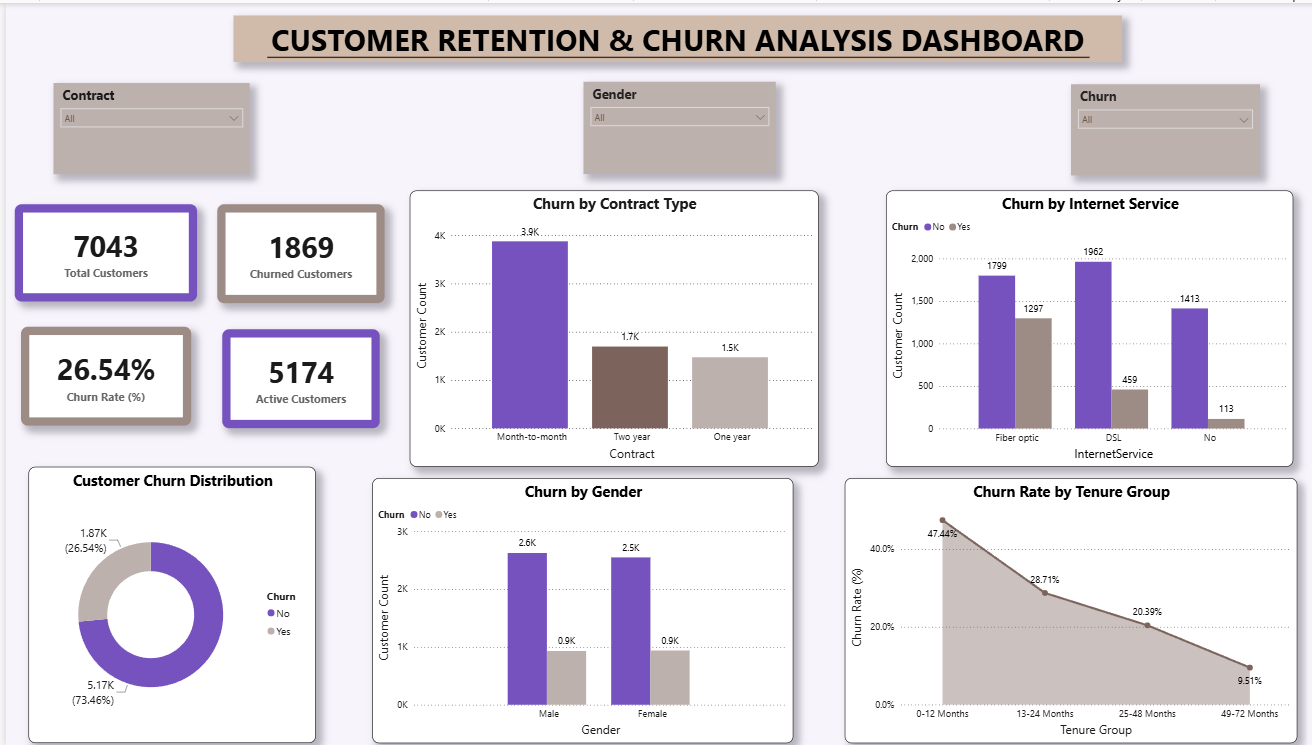

What the dashboard file says about the page in this screenshot:
{"tool":"powerbi","page":{"name":"Page 1","canvas":[1920,1080],"ordinal":0},"visuals":[{"type":"textbox","box":[329.4,18.1,1286.7,67],"z":0},{"type":"card","title":"Total Customers","fields":{"Values":["WA_Fn-UseC_-Telco-Customer-Churn.Total Customers"]},"box":[12.7,291.4,264.2,141.2],"z":1000},{"type":"clusteredColumnChart","title":"Churn by Contract Type","fields":{"Category":["WA_Fn-UseC_-Telco-Customer-Churn.Contract"],"Y":["CountNonNull(WA_Fn-UseC_-Telco-Customer-Churn.customerID)"]},"box":[584.5,271.4,591.8,399.9],"z":2000},{"type":"donutChart","title":"Customer Churn Distribution","fields":{"Category":["WA_Fn-UseC_-Telco-Customer-Churn.Churn"],"Y":["CountNonNull(WA_Fn-UseC_-Telco-Customer-Churn.customerID)"]},"box":[32.6,671.4,416.2,399.9],"z":3000},{"type":"clusteredColumnChart","title":"Churn by Internet Service","fields":{"Category":["WA_Fn-UseC_-Telco-Customer-Churn.InternetService"],"Y":["CountNonNull(WA_Fn-UseC_-Telco-Customer-Churn.customerID)"],"Series":["WA_Fn-UseC_-Telco-Customer-Churn.Churn"]},"box":[1274,271.4,589.9,399.9],"z":4000},{"type":"clusteredColumnChart","title":"Churn by Gender","fields":{"Category":["WA_Fn-UseC_-Telco-Customer-Churn.gender"],"Y":["CountNonNull(WA_Fn-UseC_-Telco-Customer-Churn.customerID)"],"Series":["WA_Fn-UseC_-Telco-Customer-Churn.Churn"]},"box":[530.2,687.7,609.9,383.6],"z":5000},{"type":"lineChart","title":"Churn Rate by Tenure Group","fields":{"Category":["WA_Fn-UseC_-Telco-Customer-Churn.Tenure Group"],"Y":["WA_Fn-UseC_-Telco-Customer-Churn.Churn Rate"]},"box":[1214.3,687.7,655.1,383.6],"z":6000},{"type":"slicer","fields":{"Values":["WA_Fn-UseC_-Telco-Customer-Churn.Contract"]},"box":[68.8,115.8,284.1,132.1],"z":9000},{"type":"slicer","fields":{"Values":["WA_Fn-UseC_-Telco-Customer-Churn.Churn"]},"box":[1541.8,117.6,273.3,132.1],"z":10000},{"type":"slicer","fields":{"Values":["WA_Fn-UseC_-Telco-Customer-Churn.gender"]},"box":[836.1,114,278.7,133.9],"z":11000},{"type":"card","title":"Total Customers","fields":{"Values":["WA_Fn-UseC_-Telco-Customer-Churn.Churned Customers"]},"box":[305.8,291.4,242.5,143],"z":12000},{"type":"card","title":"Total Customers","fields":{"Values":["WA_Fn-UseC_-Telco-Customer-Churn.Active Customers"]},"box":[313.1,472.3,228,143],"z":13000},{"type":"card","title":"Total Customers","fields":{"Values":["WA_Fn-UseC_-Telco-Customer-Churn.Churn Rate"]},"box":[21.7,468.7,246.1,143],"z":14000},{"type":"shape","box":[378.2,72.4,1190.8,12.7],"z":17000}]}

Visuals, with their boxes in screenshot pixels (x1, y1, x2, y2), scaled from the page's 1920x1080 canvas onto the 1312x745 screenshot:
textbox: crop(225, 12, 1104, 59)
"Total Customers" card: crop(9, 201, 189, 298)
"Churn by Contract Type" clusteredColumnChart: crop(399, 187, 804, 463)
"Customer Churn Distribution" donutChart: crop(22, 463, 307, 739)
"Churn by Internet Service" clusteredColumnChart: crop(871, 187, 1274, 463)
"Churn by Gender" clusteredColumnChart: crop(362, 474, 779, 739)
"Churn Rate by Tenure Group" lineChart: crop(830, 474, 1277, 739)
slicer - WA_Fn-UseC_-Telco-Customer-Churn.Contract: crop(47, 80, 241, 171)
slicer - WA_Fn-UseC_-Telco-Customer-Churn.Churn: crop(1054, 81, 1240, 172)
slicer - WA_Fn-UseC_-Telco-Customer-Churn.gender: crop(571, 79, 762, 171)
"Total Customers" card: crop(209, 201, 375, 300)
"Total Customers" card: crop(214, 326, 370, 424)
"Total Customers" card: crop(15, 323, 183, 422)
shape: crop(258, 50, 1072, 59)
